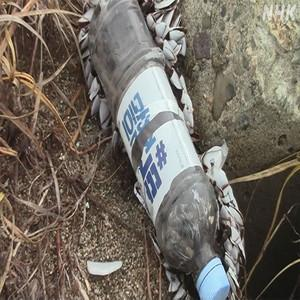Plastic: (83, 0, 232, 300)
